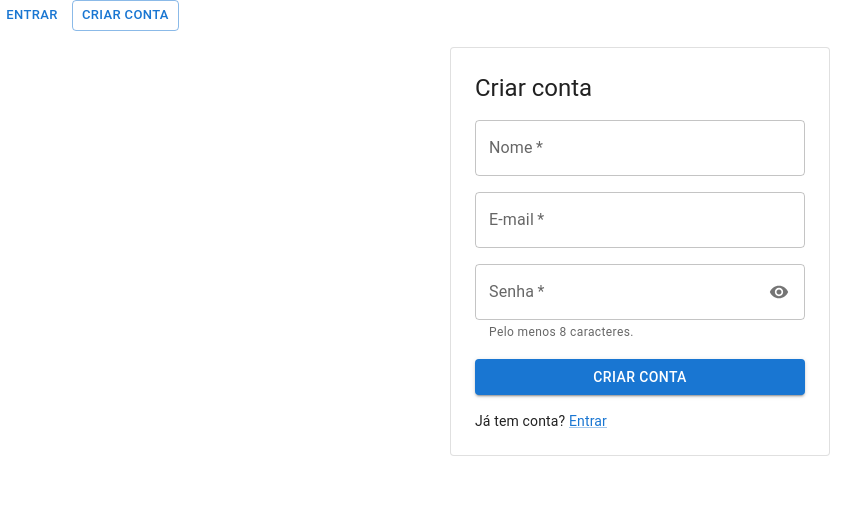
login and registration › checks the form before sending it
This screenshot has width=847, height=519.
Step 1. Click the button "Criar conta" → (640, 377), box [475, 359, 805, 395]
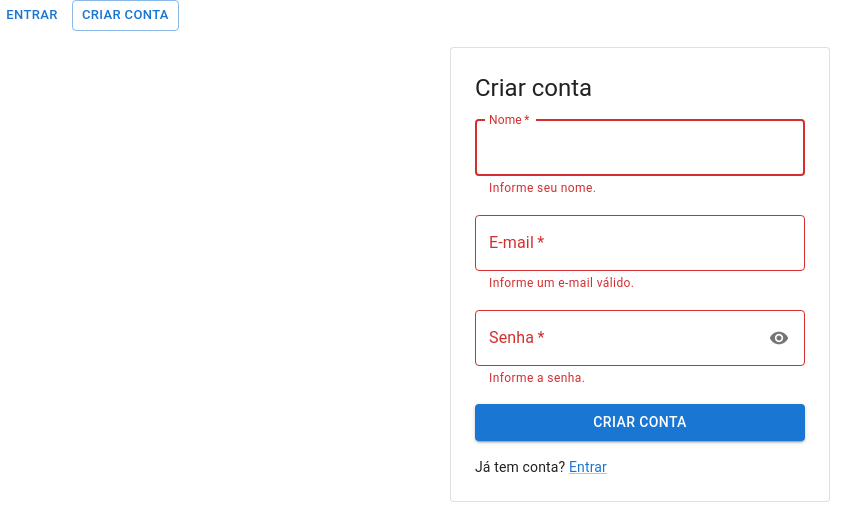
Expected: the text "Informe seu nome." is shown, [489, 181, 596, 195]
